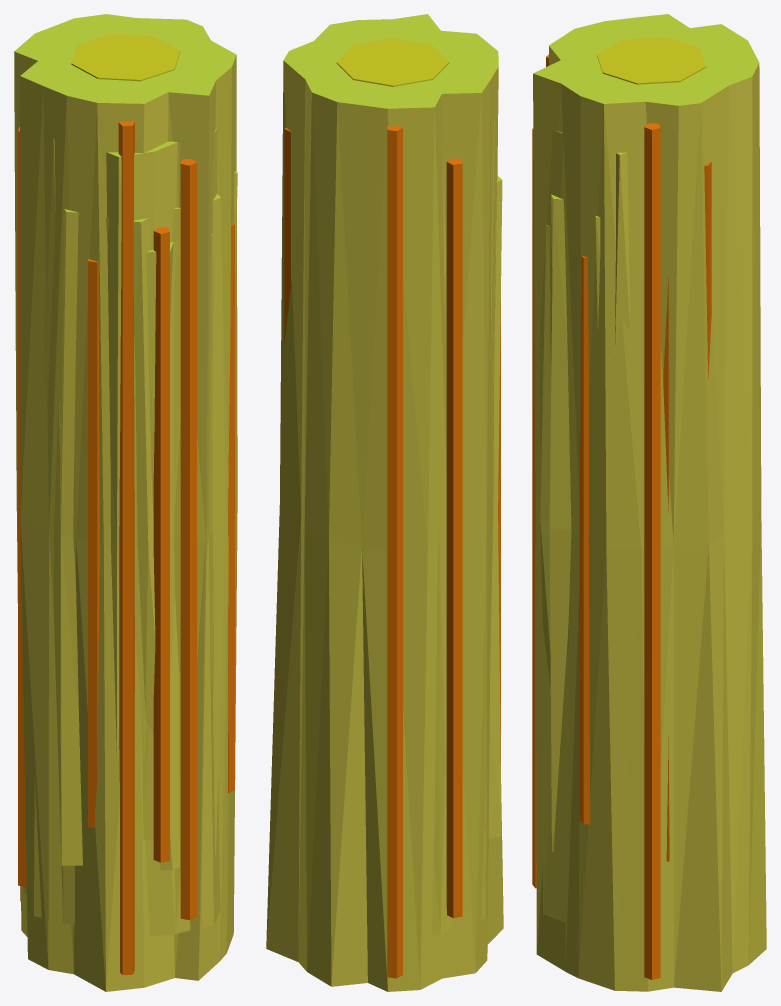
Rendered from logs.glb.
3 views of the same model, side by side, from view 1: azimuth 30°, elevation 25°; view 2: azimuth 150°, elevation 25°; view 3: azimuth 270°, elevation 25° (orthographic).
Parts seen in each view (by area): view 1: Log_03, Log_01, Log_02, Log_04, Log_03_Ring_Top; view 2: Log_03, Log_01, Log_02, Log_03_Ring_Top, Log_04; view 3: Log_03, Log_01, Log_02, Log_04, Log_03_Ring_Top.
Boxes of the visible parts, bbox=[...] form: Log_03: bbox=[14, 14, 237, 991]; Log_01: bbox=[18, 126, 220, 936]; Log_02: bbox=[60, 171, 237, 870]; Log_04: bbox=[88, 222, 234, 839]; Log_03_Ring_Top: bbox=[71, 34, 180, 81]; Log_03: bbox=[266, 14, 503, 991]; Log_01: bbox=[284, 122, 494, 935]; Log_02: bbox=[488, 175, 502, 838]; Log_03_Ring_Top: bbox=[336, 38, 449, 86]; Log_04: bbox=[498, 301, 500, 762]; Log_03: bbox=[533, 14, 766, 991]; Log_01: bbox=[532, 128, 711, 923]; Log_02: bbox=[549, 194, 669, 861]; Log_04: bbox=[540, 225, 590, 824]; Log_03_Ring_Top: bbox=[597, 37, 706, 84].
Bounding box in the file's own units: 0.3251 × 1.35 × 0.3241.
